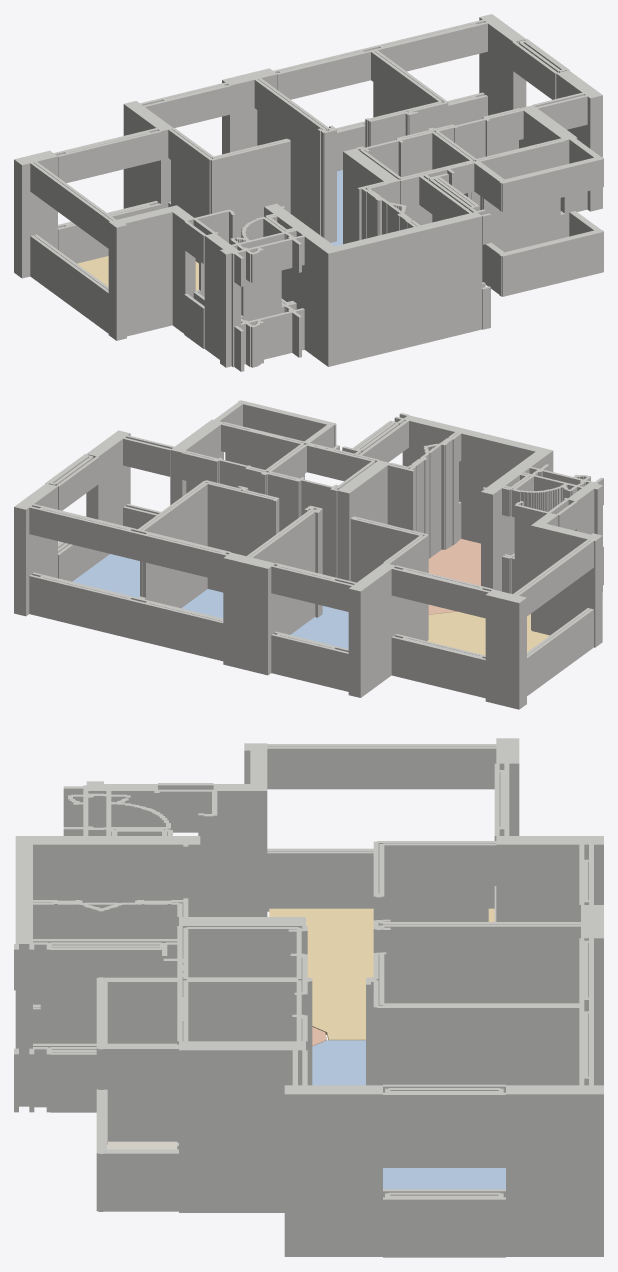
3 renders of one model, top to bottom at view 1: azimuth 30°, elevation 25°; view 2: azimuth 150°, elevation 25°; view 3: azimuth 270°, elevation 25°, orthographic. The views are drawn at different scales.
Parts seen in each view (by area): view 1: walls, room:living:10; view 2: walls, room:living:10, room:kitchen:9, room:bedroom:2, room:bedroom:0, room:bedroom:1; view 3: walls, room:living:10, room:bedroom:2, room:bedroom:0.
Part boxes in pixels (x1,y1,x2,y2): walls: [14, 14, 603, 371]; room:living:10: [77, 256, 198, 290]; walls: [14, 400, 603, 709]; room:living:10: [427, 611, 549, 655]; room:kitchen:9: [428, 539, 480, 614]; room:bedroom:2: [72, 554, 139, 597]; room:bedroom:0: [290, 606, 348, 648]; room:bedroom:1: [181, 589, 223, 618]; walls: [14, 738, 603, 1257]; room:living:10: [269, 908, 494, 1040]; room:bedroom:2: [383, 1168, 505, 1189]; room:bedroom:0: [312, 1040, 365, 1085].
Size of the model in its own units: 13.15 by 2.8 by 9.2.
